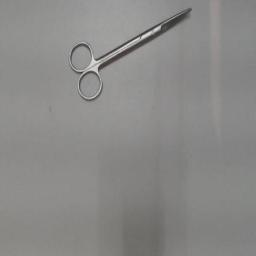Curved Mayo Scissors: (64, 3, 196, 105)
